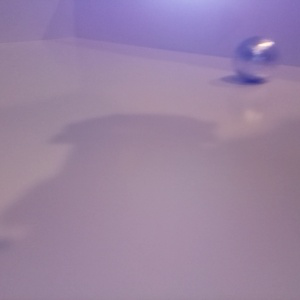alive_ball: (234, 36, 280, 81)
